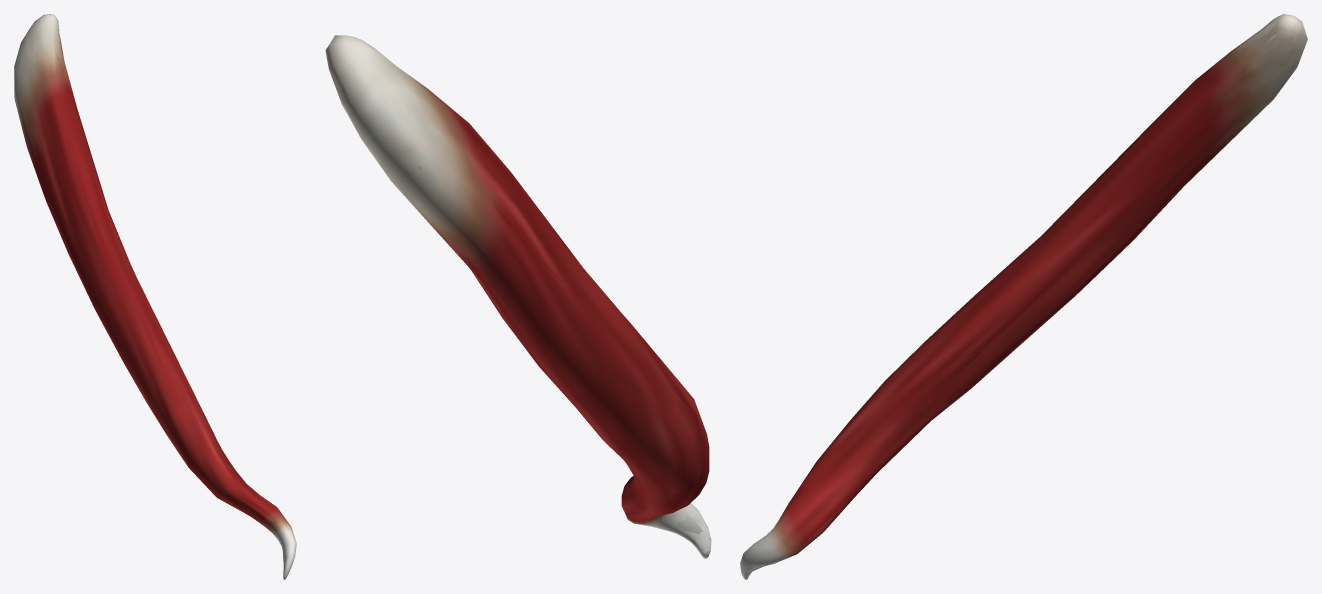
Rendered from R Teres Major.fbx.
3 views of the same model, side by side, from view 1: azimuth 30°, elevation 25°; view 2: azimuth 150°, elevation 25°; view 3: azimuth 270°, elevation 25° (orthographic). The views are drawn at different scales.
Parts seen in each view (by area): view 1: R Teres Major, R Teres Major low, R Teres Major high; view 2: R Teres Major, R Teres Major low, R Teres Major high; view 3: R Teres Major, R Teres Major low, R Teres Major high.
Boxes of the visible parts, x1=… form: R Teres Major: x1=14, y1=14, x2=296, y2=579; R Teres Major low: x1=18, y1=14, x2=291, y2=565; R Teres Major high: x1=21, y1=17, x2=294, y2=571; R Teres Major: x1=325, y1=35, x2=711, y2=558; R Teres Major low: x1=326, y1=37, x2=710, y2=557; R Teres Major high: x1=337, y1=42, x2=709, y2=554; R Teres Major: x1=740, y1=14, x2=1307, y2=579; R Teres Major low: x1=747, y1=15, x2=1306, y2=577; R Teres Major high: x1=746, y1=15, x2=1304, y2=576.
Size of the model in its own units: 1.38 by 5.7 by 5.36.
Materials: 1 (1 with a texture image).
